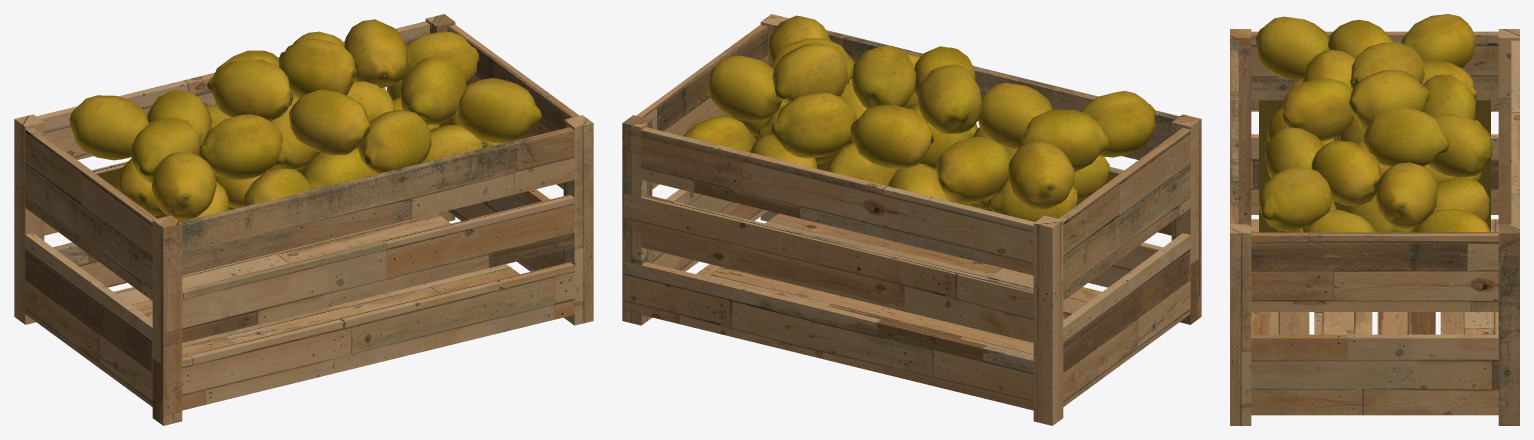
The model's file is skrzynka_cytryny.glb.
3 renders of one model, left to right at view 1: azimuth 30°, elevation 25°; view 2: azimuth 150°, elevation 25°; view 3: azimuth 270°, elevation 25°, orthographic. The views are drawn at different scales.
Parts seen in each view (by area): view 1: skrzynka, cytryny; view 2: skrzynka, cytryny; view 3: skrzynka, cytryny, dno.
Boxes of the visible parts, left/top/right/bottom form: skrzynka: left=14, top=14, right=593, bottom=425; cytryny: left=69, top=19, right=542, bottom=221; skrzynka: left=622, top=14, right=1201, bottom=425; cytryny: left=683, top=15, right=1155, bottom=221; skrzynka: left=1230, top=29, right=1519, bottom=425; cytryny: left=1256, top=14, right=1492, bottom=232; dno: left=1259, top=100, right=1490, bottom=232.
Bounding box in the file's own units: 0.5 × 0.2963 × 0.3.
Materials: 3 (3 with a texture image).
